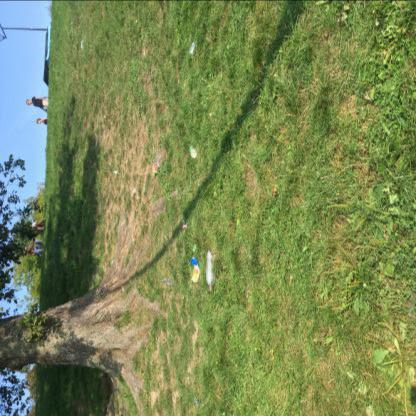Bottle cap: (206, 250, 215, 292), (153, 152, 162, 176), (161, 277, 173, 285), (131, 188, 136, 196)
Can: (114, 170, 119, 174)
Carton: (190, 256, 200, 282)
Cup: (190, 146, 197, 158)
Plastic bag - wrapper: (184, 225, 188, 232)
Unlabeled litter: (194, 398, 199, 408), (194, 244, 198, 251), (81, 40, 84, 49), (183, 220, 186, 225), (112, 260, 114, 264)
